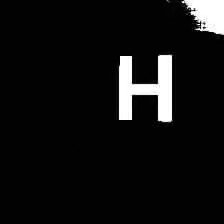LTR_H: (112, 46, 180, 130)
